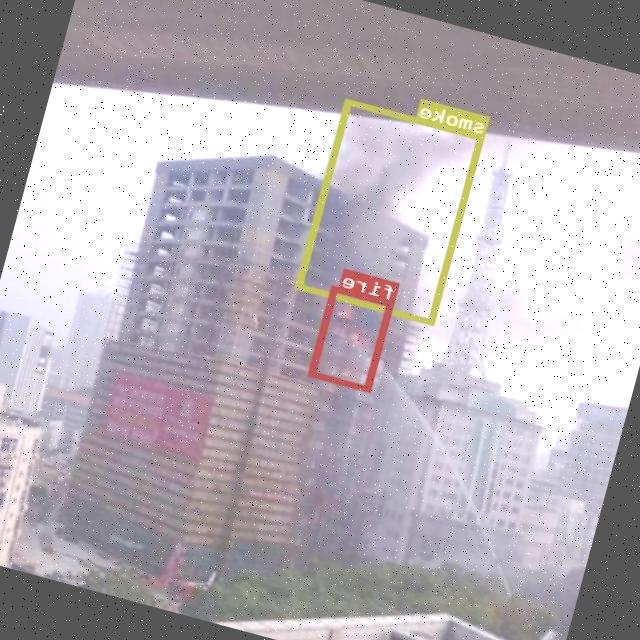fire: (310, 284, 395, 390)
smoke: (296, 98, 485, 324)
